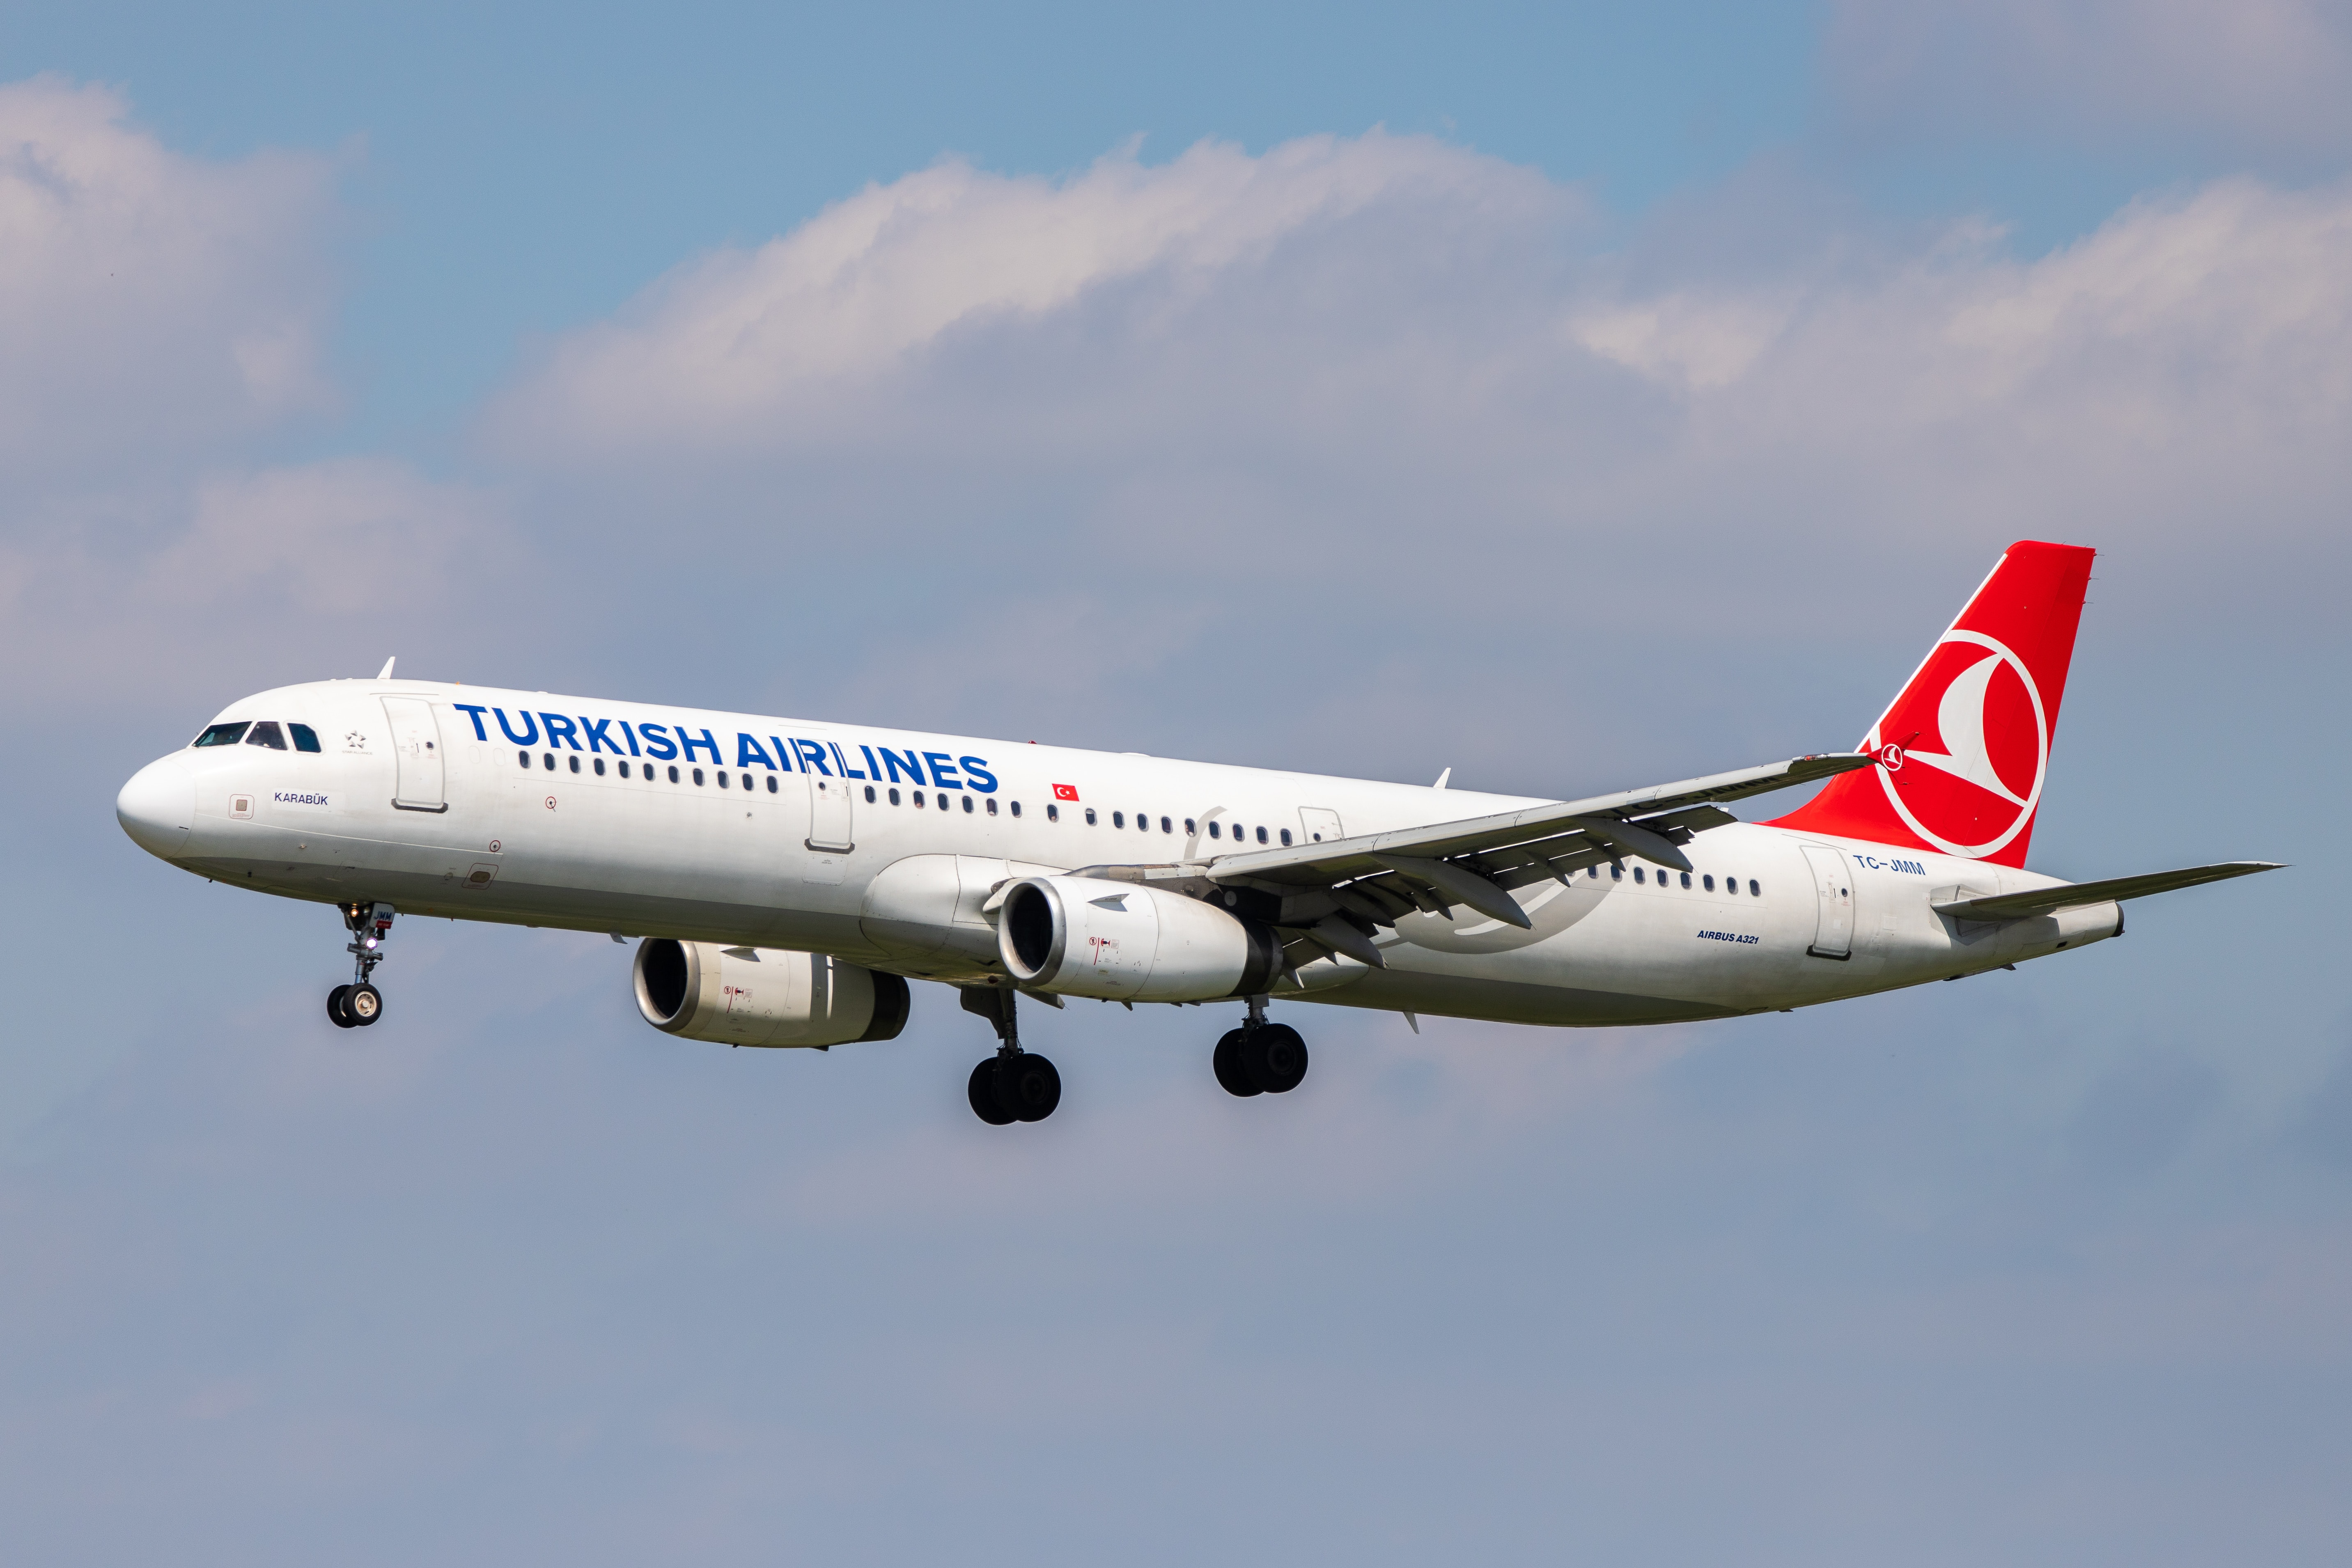airplane: (80, 422, 2294, 1218)
